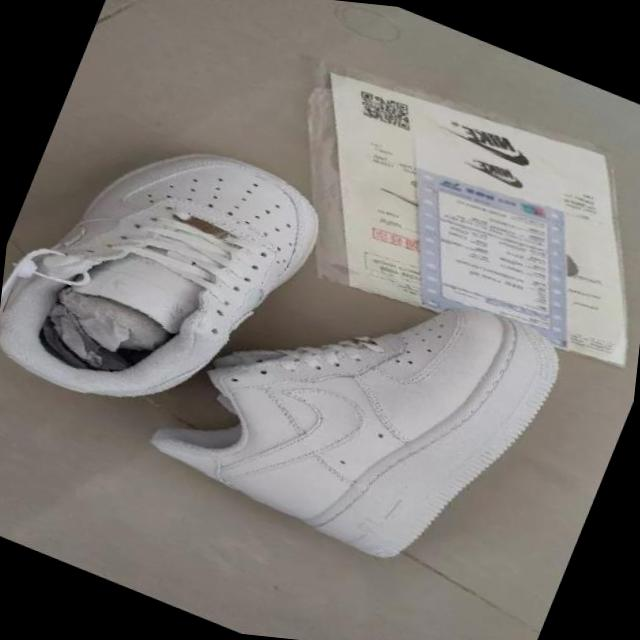nike_original_airforce: (111, 194, 624, 624), (0, 86, 351, 465)
